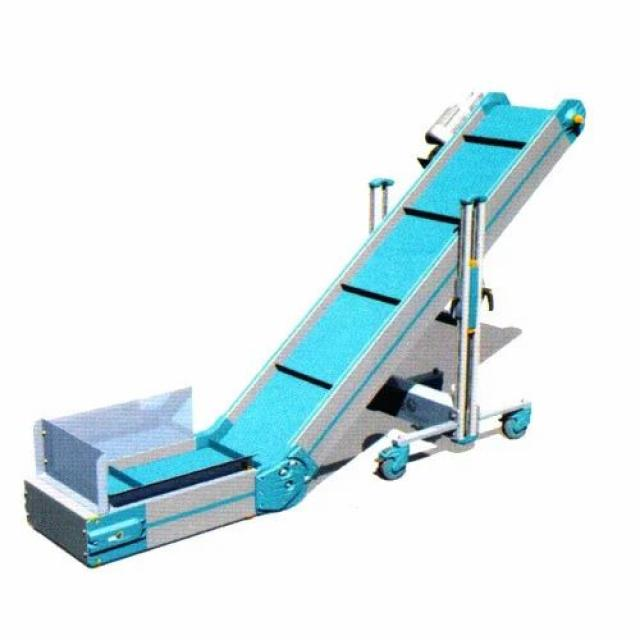conveyor: (12, 75, 597, 584)
